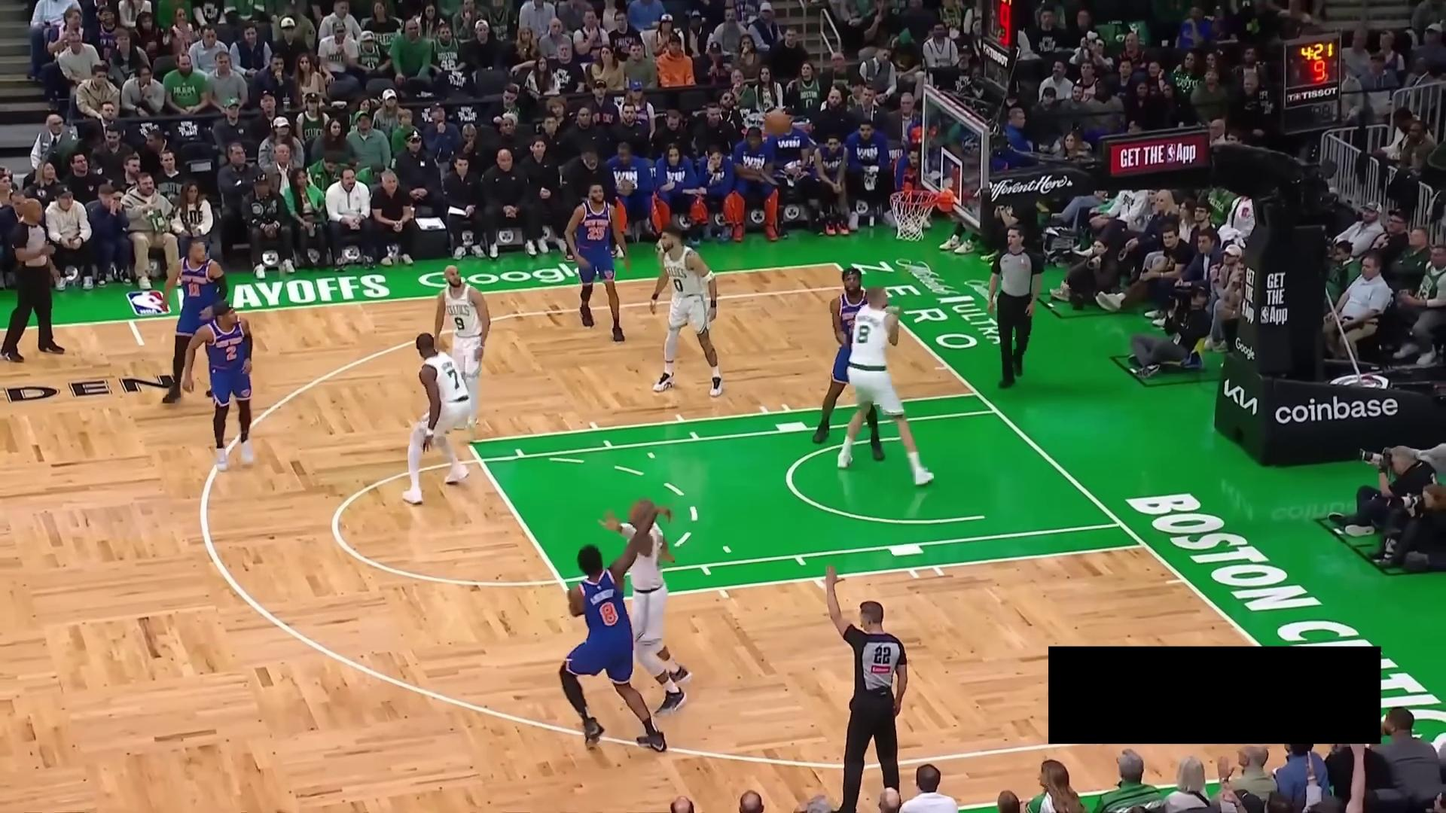ball: (763, 108, 792, 136)
number: (599, 601, 618, 626), (587, 224, 606, 241), (856, 324, 871, 344), (447, 368, 461, 389), (224, 344, 238, 362), (672, 276, 685, 294), (188, 282, 202, 297), (453, 315, 466, 331)
player: (558, 504, 674, 753), (596, 497, 694, 719), (836, 285, 936, 487), (811, 266, 890, 456), (649, 224, 725, 397), (182, 298, 257, 473), (401, 331, 474, 505), (159, 236, 231, 406), (564, 180, 632, 343), (433, 263, 492, 440)
referee: (825, 563, 908, 813), (1, 197, 67, 363), (987, 223, 1045, 389)
rim: (889, 188, 939, 207)
